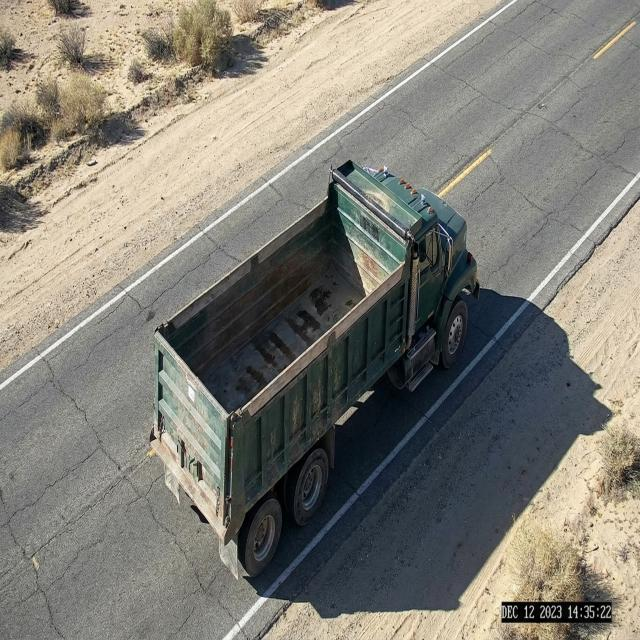Box: (153, 160, 417, 438)
Truck: (140, 140, 487, 568)
